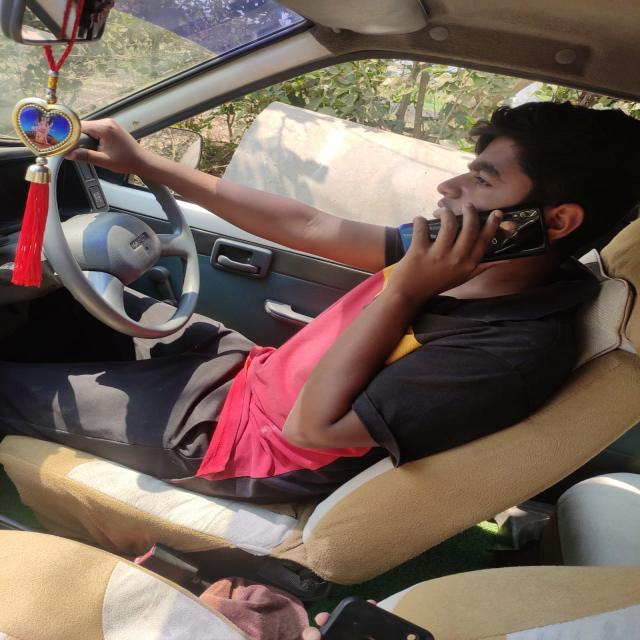mobile: (378, 210, 556, 258)
person: (448, 99, 628, 270)
